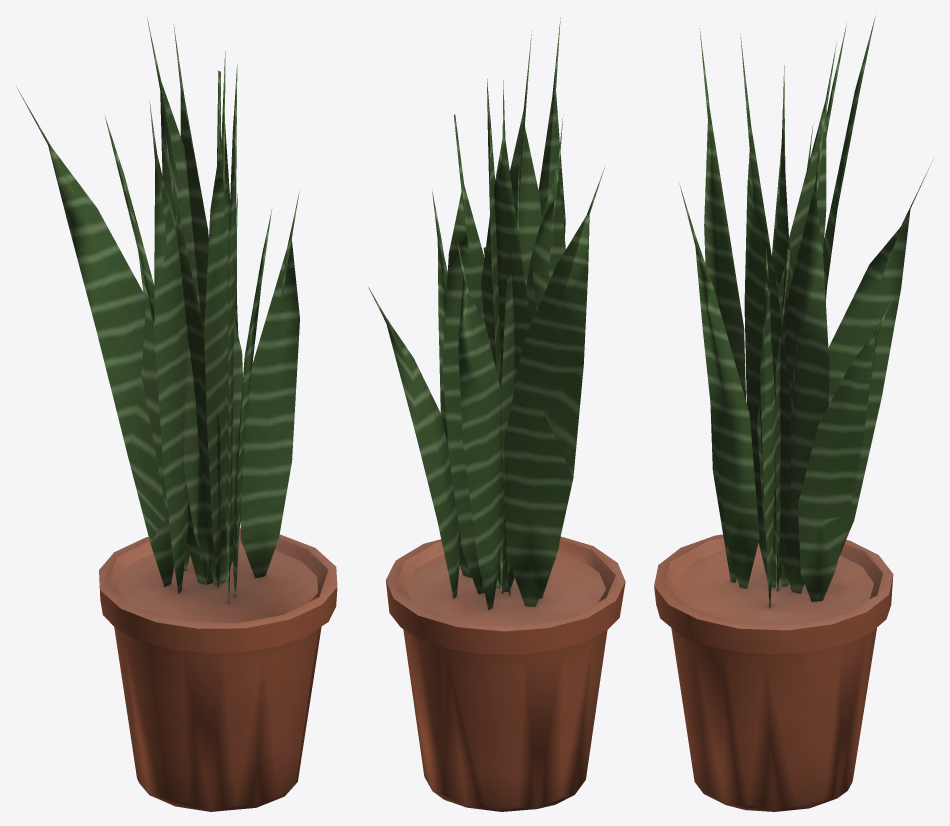
File: plant_snake-low.glb
The picture shows the model from 3 angles, left to right: view 1: azimuth 30°, elevation 25°; view 2: azimuth 150°, elevation 25°; view 3: azimuth 270°, elevation 25°; orthographic projection.
Parts seen in each view (by area): view 1: plant_snake-low; view 2: plant_snake-low; view 3: plant_snake-low.
Boxes of the visible parts, x1=… form: plant_snake-low: x1=16, y1=17, x2=337, y2=811; plant_snake-low: x1=367, y1=17, x2=625, y2=811; plant_snake-low: x1=654, y1=17, x2=933, y2=811.
Size of the model in its own units: 0.3759 by 1.05 by 0.3597.
1 material, 1 textured.
